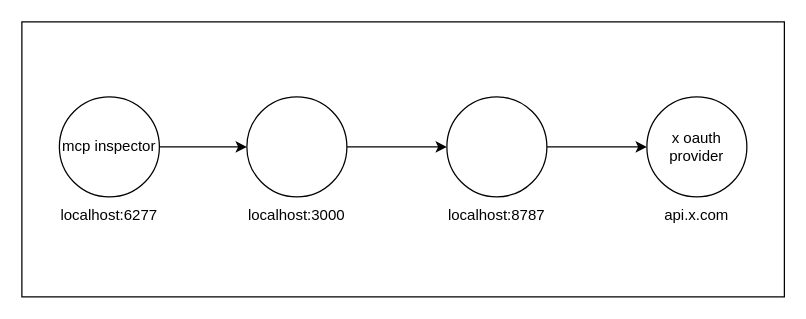
This 806x319 diagram has some shape labels left out. Here are the shapes that lost their labels. From the top down, the centre of each, then its label:
At (296,146): "demo".
At (496,146): "x-oauth-provider (proxy)".
